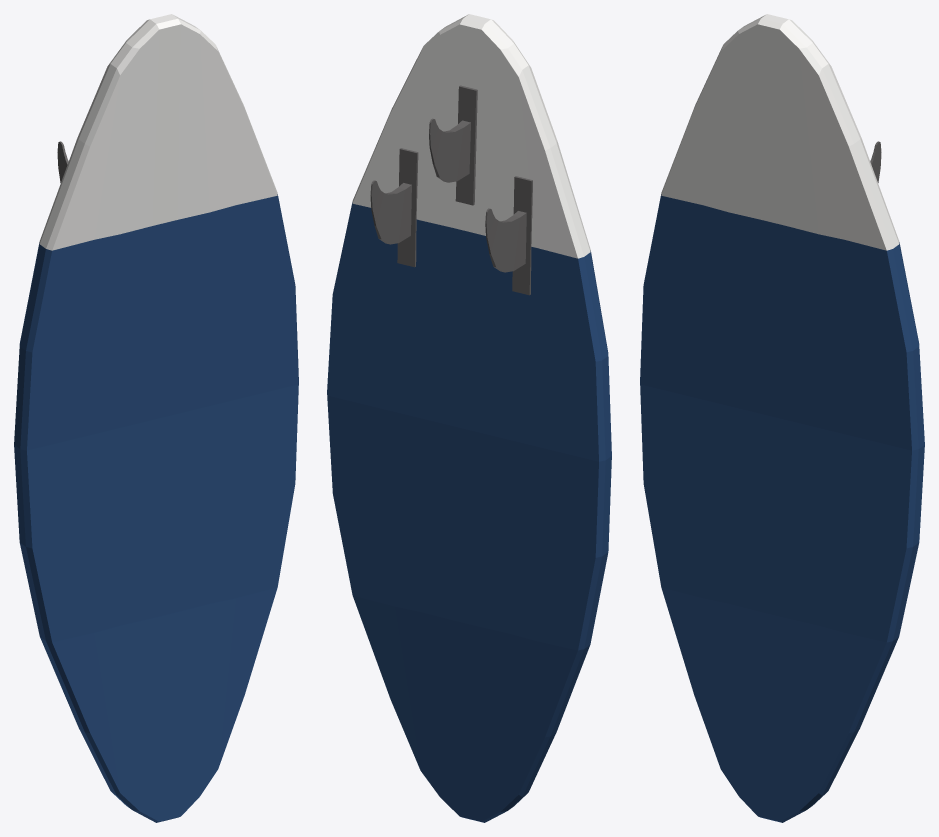
The model's file is Isl_11_Surf_board_1.fbx.
3 renders of one model, left to right at view 1: azimuth 30°, elevation 25°; view 2: azimuth 150°, elevation 25°; view 3: azimuth 330°, elevation 25°, orthographic.
Parts seen in each view (by area): view 1: Isl_11_Surf_board_1; view 2: Isl_11_Surf_board_1; view 3: Isl_11_Surf_board_1.
Boxes of the visible parts, <box> form: Isl_11_Surf_board_1: <box>14,14,298,822</box>; Isl_11_Surf_board_1: <box>327,14,611,822</box>; Isl_11_Surf_board_1: <box>640,14,924,822</box>.
Bounding box in the file's own units: 81.23 × 27.65 × 223.
1 material, 1 textured.
